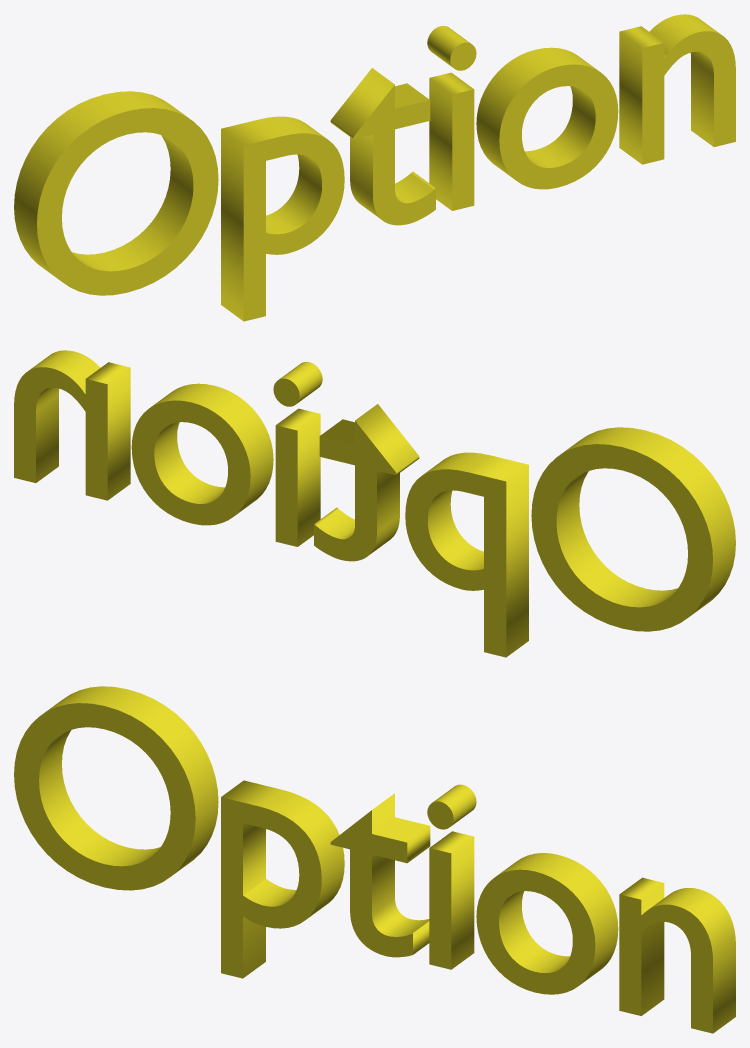
The picture shows the model from 3 angles, top to bottom: view 1: azimuth 30°, elevation 25°; view 2: azimuth 150°, elevation 25°; view 3: azimuth 330°, elevation 25°; orthographic projection.
Parts seen in each view (by area): view 1: text2; view 2: text2; view 3: text2.
Part boxes in pixels (bbox=[...]): text2: bbox=[14, 14, 735, 321]; text2: bbox=[14, 350, 735, 657]; text2: bbox=[14, 686, 735, 1033].
Bounding box in the file's own units: 2.82 × 0.921 × 0.16.
